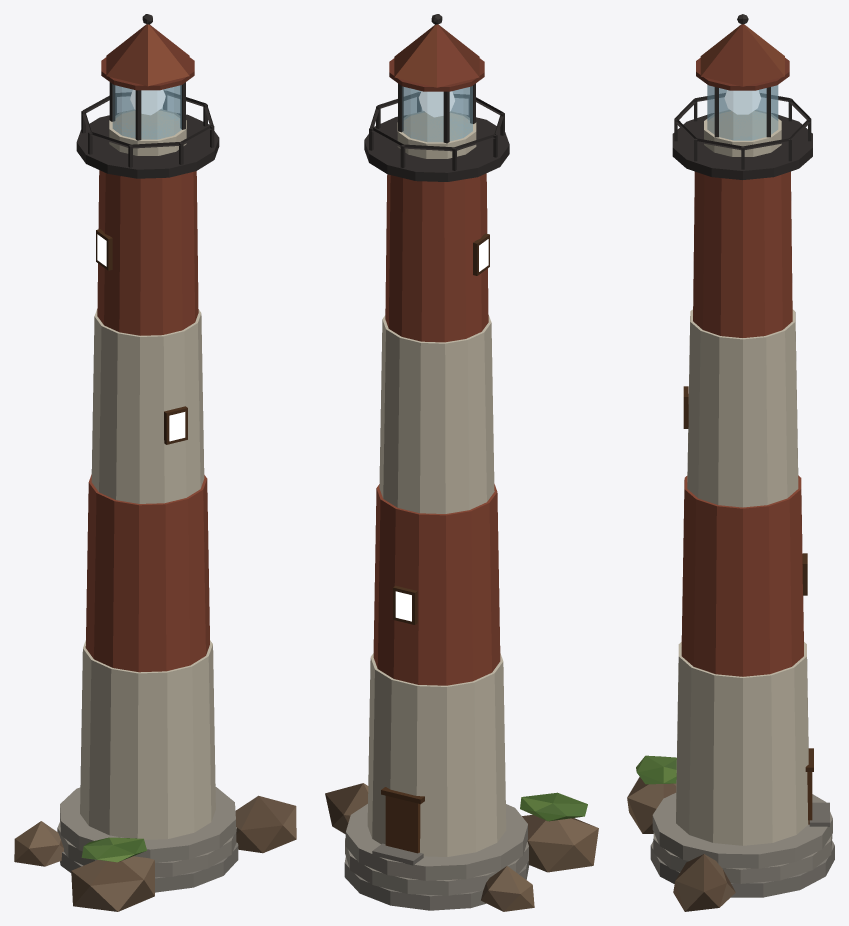
File: Lighthouse.glb
3 renders of one model, left to right at view 1: azimuth 30°, elevation 25°; view 2: azimuth 150°, elevation 25°; view 3: azimuth 270°, elevation 25°, orthographic. The views are drawn at different scales.
Visible parts, largest first — view 1: Body, LampRoom, WindowGlass, LampGlow; view 2: Body, LampRoom, WindowGlass, LampGlow; view 3: Body, LampRoom, LampGlow.
Boxes of the visible parts, x1,y1,x2,y2 form: Body: (14,14,296,911); LampRoom: (112,84,181,139); WindowGlass: (97,234,185,441); LampGlow: (130,89,165,115); Body: (325,14,598,911); LampRoom: (402,86,472,142); WindowGlass: (395,239,488,621); LampGlow: (419,91,454,117); Body: (627,14,834,911); LampRoom: (707,85,778,140); LampGlow: (724,90,760,114).
Size of what is drawn, in the model's own units: 16.92 by 56.05 by 12.42.
